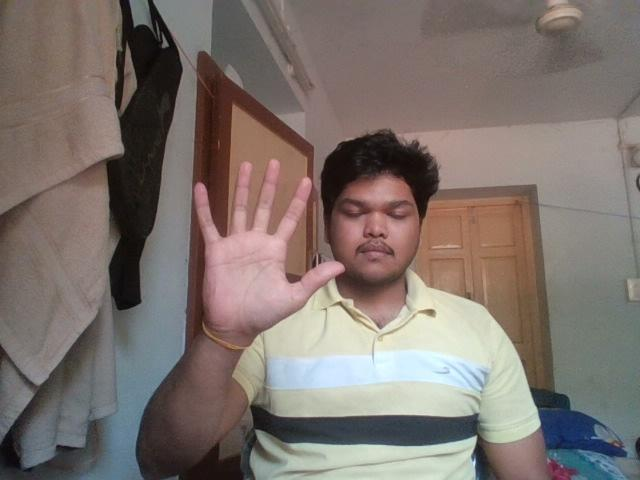hello: (180, 158, 347, 345)
